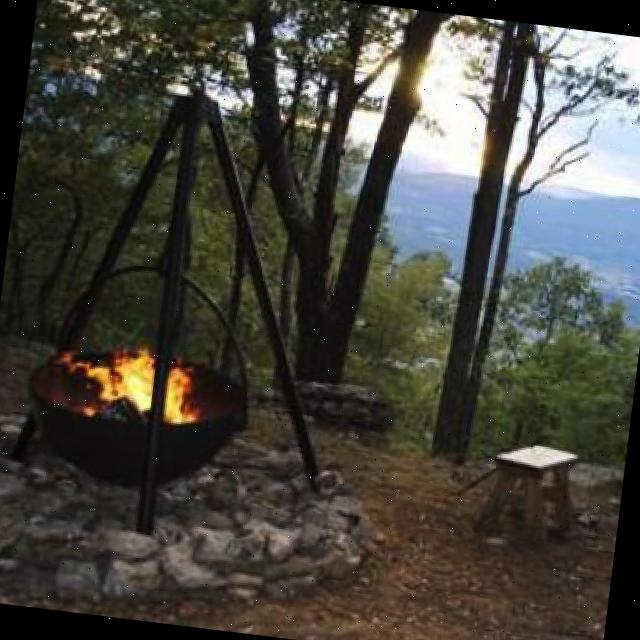fire: (77, 326, 209, 442)
